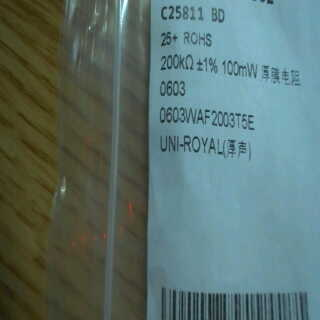200kR: (159, 49, 198, 77)
